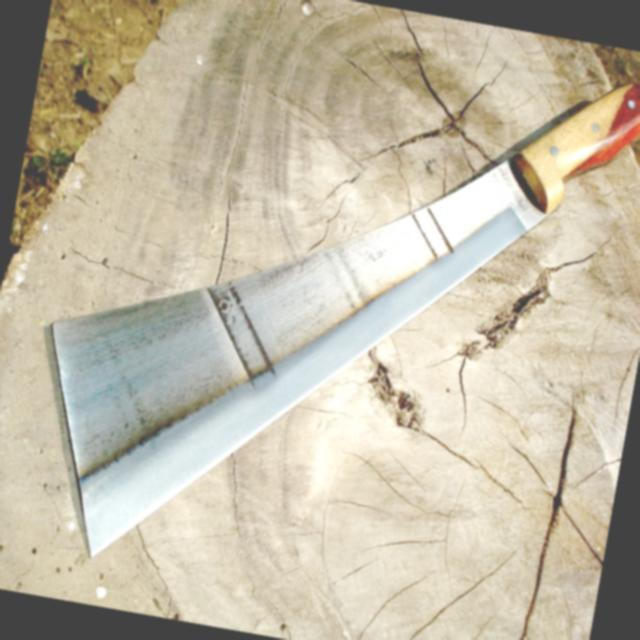eto: (43, 73, 640, 577)
